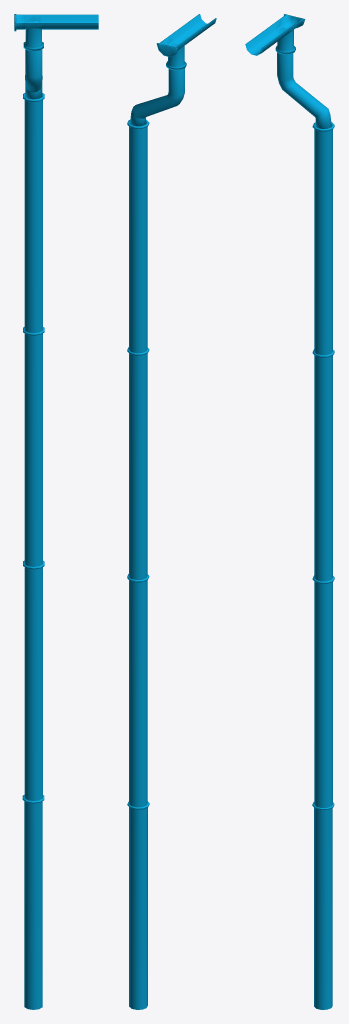
File: Gutter_End_01.fbx
The picture shows the model from 3 angles, left to right: view 1: azimuth 90°, elevation 25°; view 2: azimuth 150°, elevation 25°; view 3: azimuth 330°, elevation 25°; orthographic projection. The views are drawn at different scales.
Parts seen in each view (by area): view 1: Gutter_End_01; view 2: Gutter_End_01; view 3: Gutter_End_01.
Part boxes in pixels (x1,y1,x2,y2): Gutter_End_01: [14, 14, 98, 1009]; Gutter_End_01: [127, 14, 216, 1009]; Gutter_End_01: [245, 14, 334, 1009].
Size of the model in its own units: 40.04 by 641 by 48.83.
